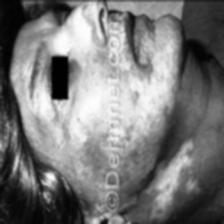Unclassified: (148, 148, 195, 224), (130, 62, 146, 113)
